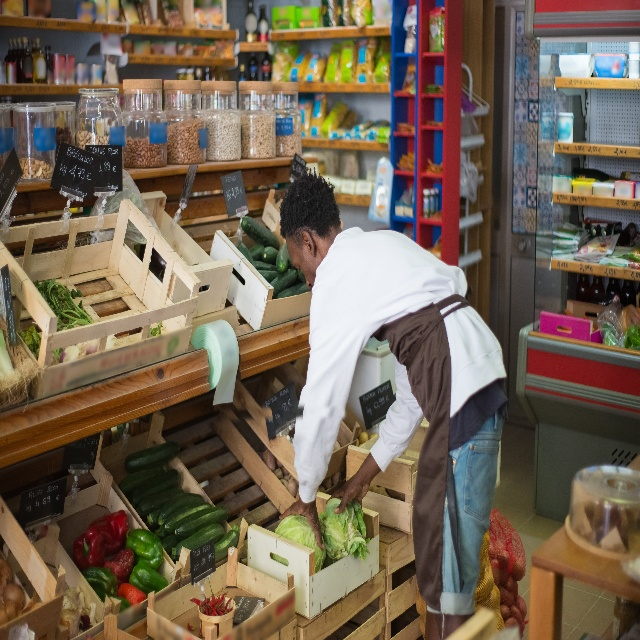Sin_guantes: (278, 495, 326, 551), (325, 474, 370, 515)
